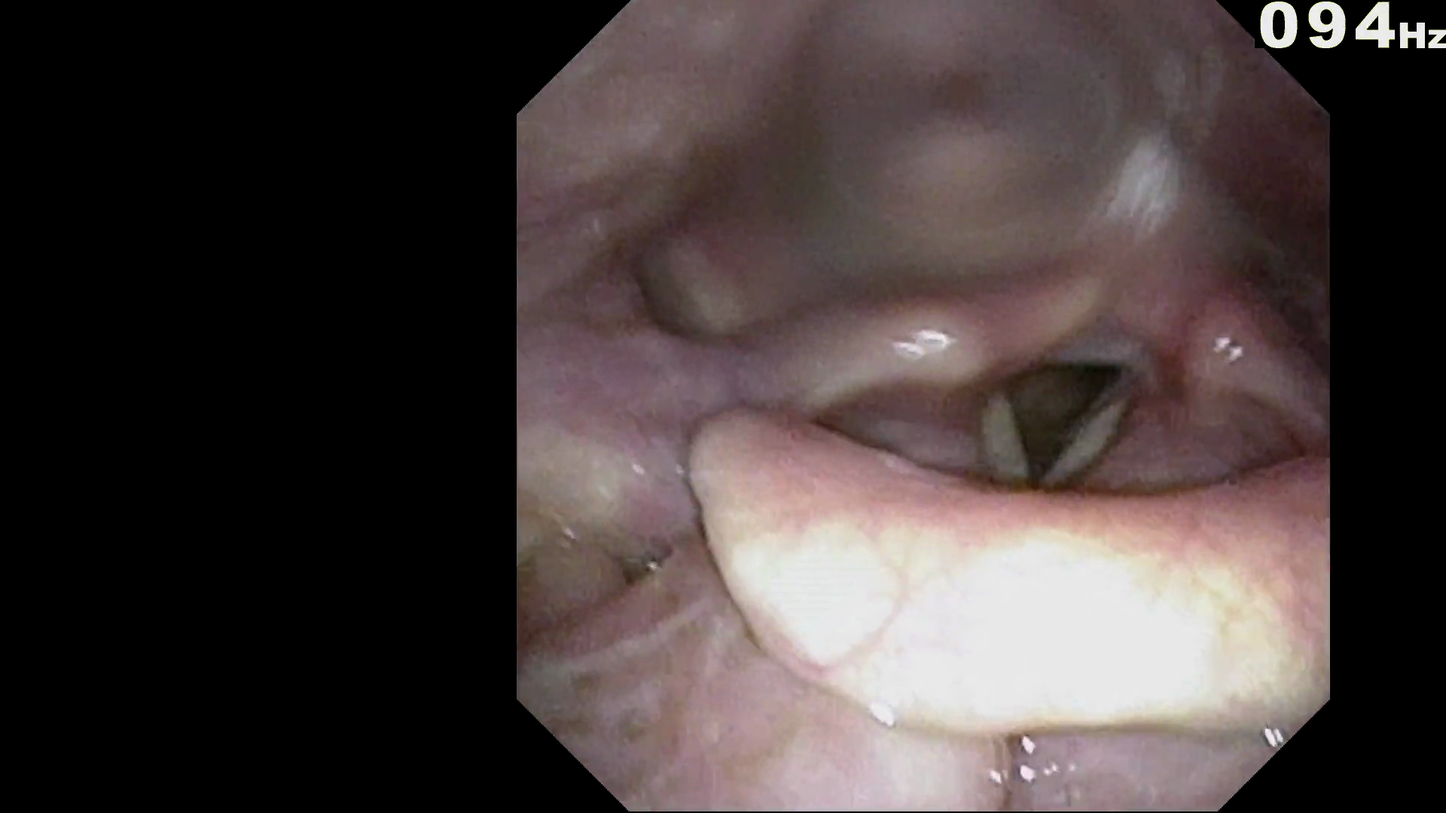epiglottis: (706, 491, 1315, 716)
trachea: (973, 333, 1144, 495)
